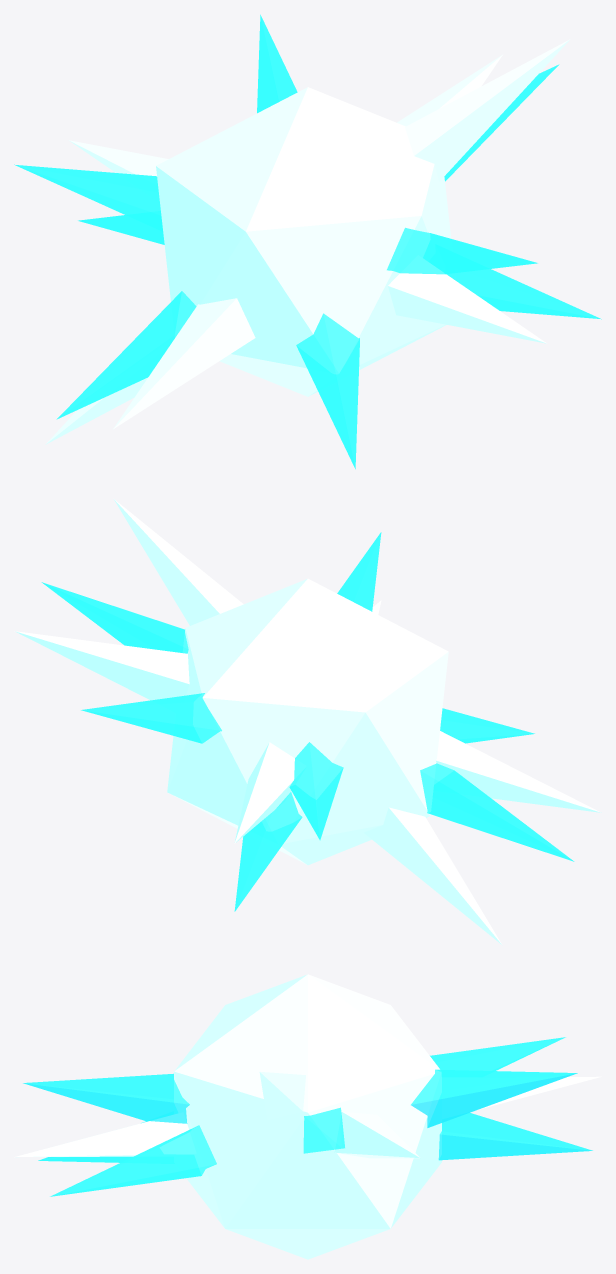
File: fx_hit_f.glb
3 views of the same model, one above another, from view 1: azimuth 30°, elevation 25°; view 2: azimuth 150°, elevation 25°; view 3: azimuth 270°, elevation 25° (orthographic). The views are drawn at different scales.
Visible parts, largest first — view 1: fx_hit_f; view 2: fx_hit_f; view 3: fx_hit_f.
Boxes of the visible parts, x1,y1,x2,y2 form: fx_hit_f: [14, 14, 601, 469]; fx_hit_f: [14, 499, 601, 944]; fx_hit_f: [14, 974, 601, 1259].
Bounding box in the file's own units: 0.6569 × 0.3826 × 0.6723.
